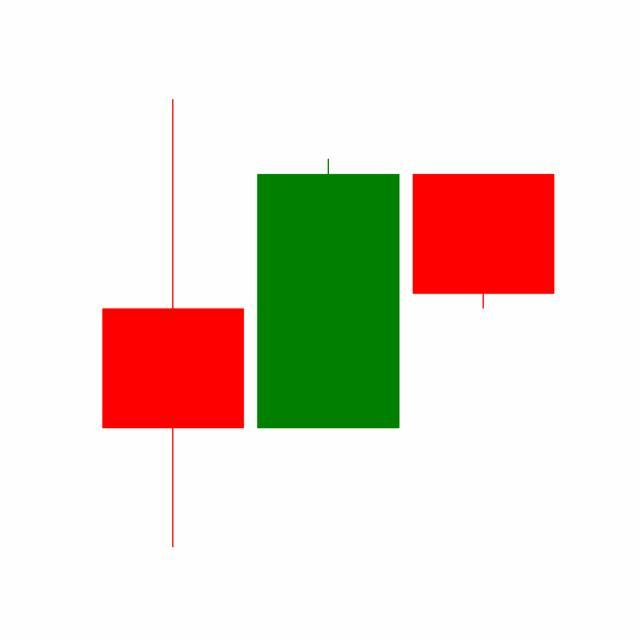Marubozu: (250, 156, 407, 432)
